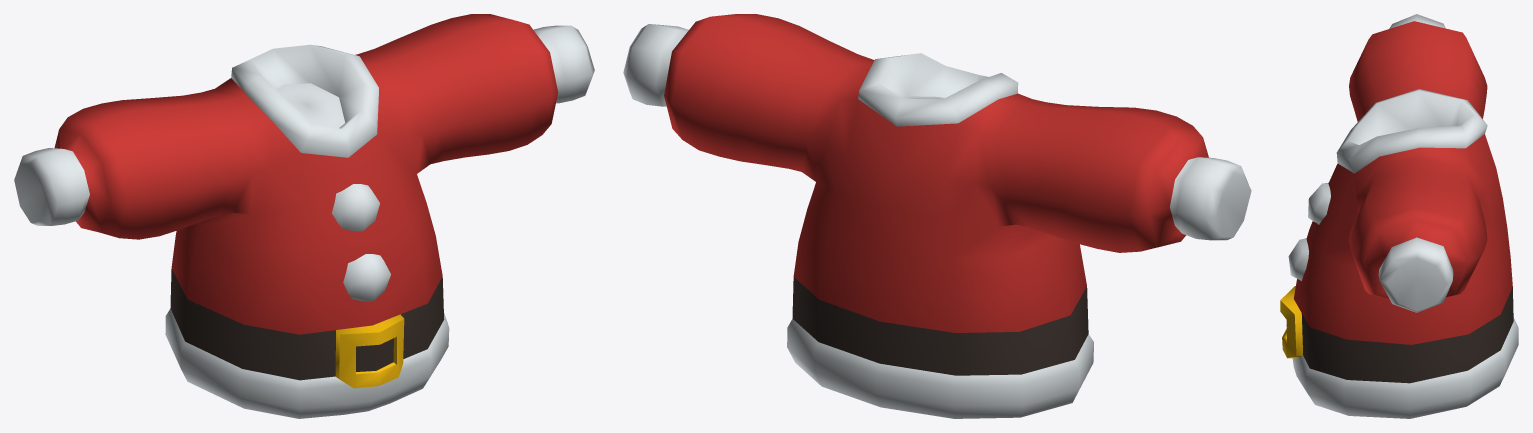
File: Top_68.fbx
The picture shows the model from 3 angles, left to right: view 1: azimuth 30°, elevation 25°; view 2: azimuth 150°, elevation 25°; view 3: azimuth 270°, elevation 25°; orthographic projection. The views are drawn at different scales.
Visible parts, largest first — view 1: Top_68; view 2: Top_68; view 3: Top_68.
Part boxes in pixels (x1,y1,x2,y2): Top_68: [14, 14, 594, 418]; Top_68: [623, 14, 1251, 418]; Top_68: [1280, 14, 1518, 418].
Bounding box in the file's own units: 95.72 × 50.28 × 39.95.
